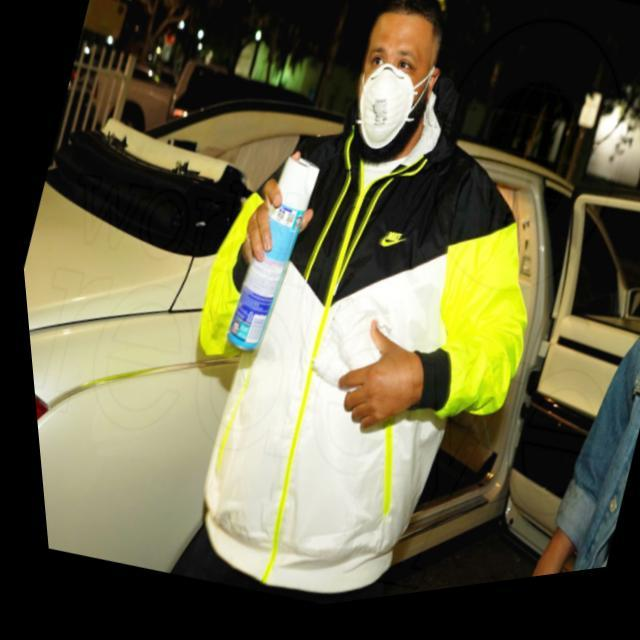Nonhelmet: (348, 0, 446, 159)
